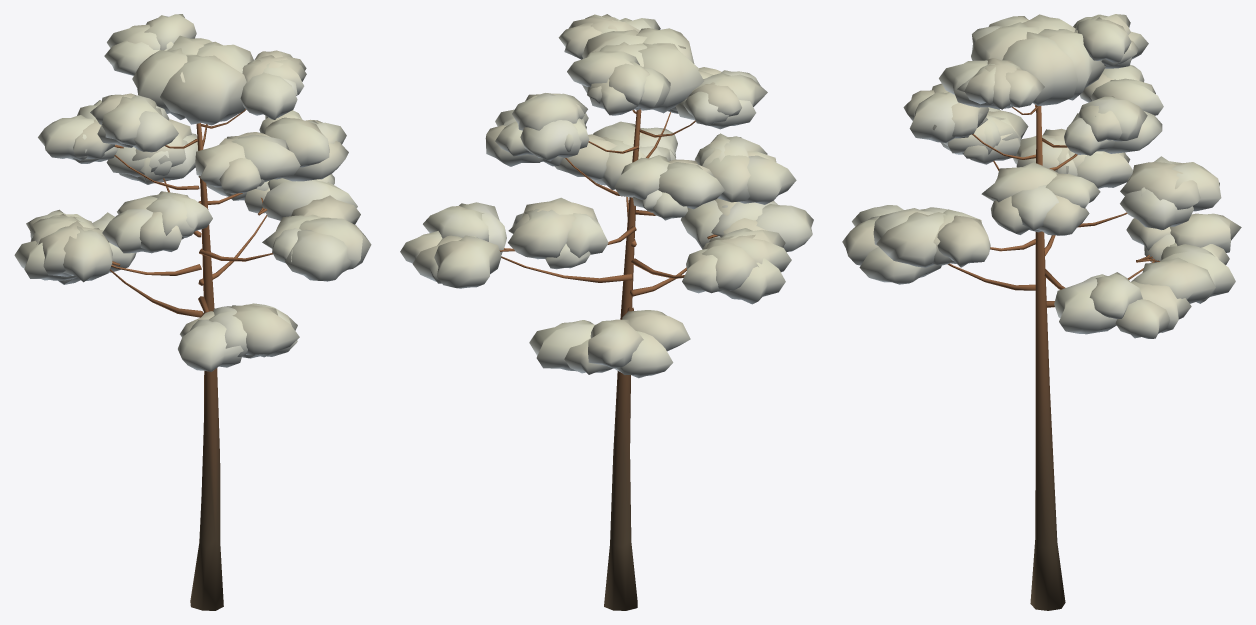
3 renders of one model, left to right at view 1: azimuth 30°, elevation 25°; view 2: azimuth 150°, elevation 25°; view 3: azimuth 270°, elevation 25°, orthographic.
Visible parts, largest first — view 1: crown, trunk; view 2: crown, trunk; view 3: crown, trunk.
Boxes of the visible parts, x1,y1,x2,y2 form: crown: (14,14,371,371); trunk: (109,109,272,610); crown: (400,14,813,378); trunk: (499,109,718,610); crown: (842,14,1241,338); trunk: (947,104,1159,610).
Size of the model in its own units: 10.82 by 17.45 by 10.98.
